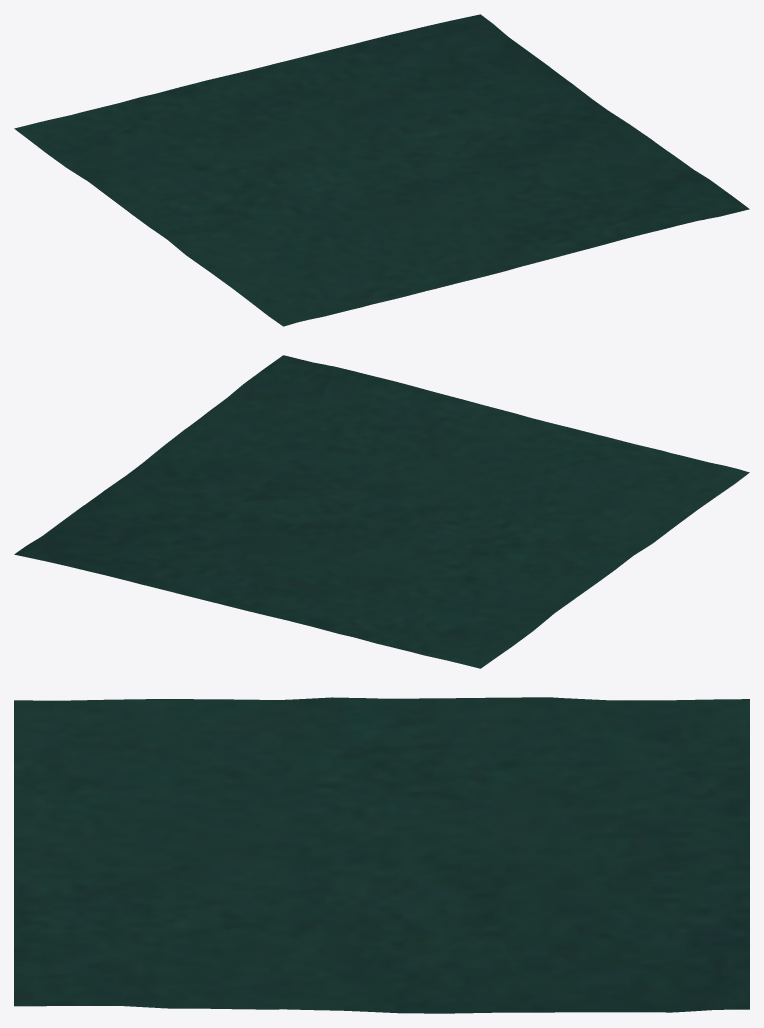
3 views of the same model, one above another, from view 1: azimuth 30°, elevation 25°; view 2: azimuth 150°, elevation 25°; view 3: azimuth 270°, elevation 25° (orthographic). The views are drawn at different scales.
Bounding box in the file's own units: 52.22 × 0.8594 × 52.22.
2 materials, 2 textured.
